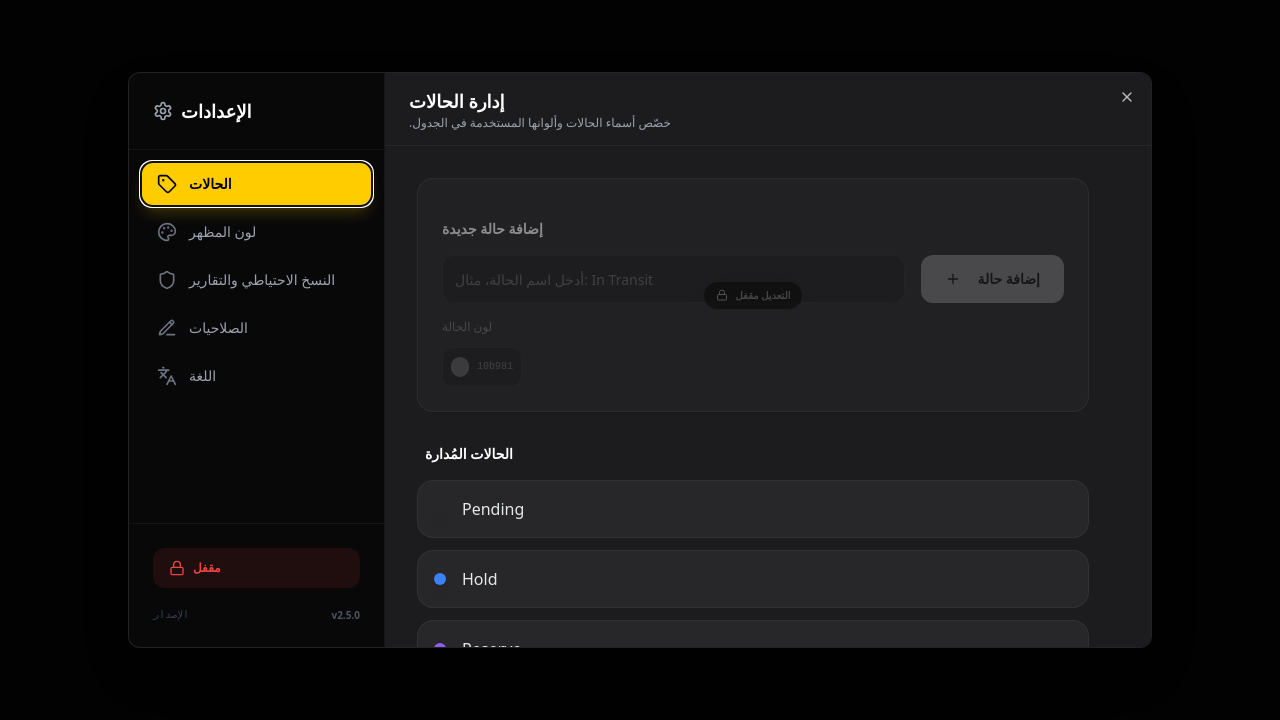
SettingsModal i18n (Wave 4) › translates the password prompt, including the incorrect-password state
Click the button "مقفل" at (256, 568), box [153, 548, 360, 588]
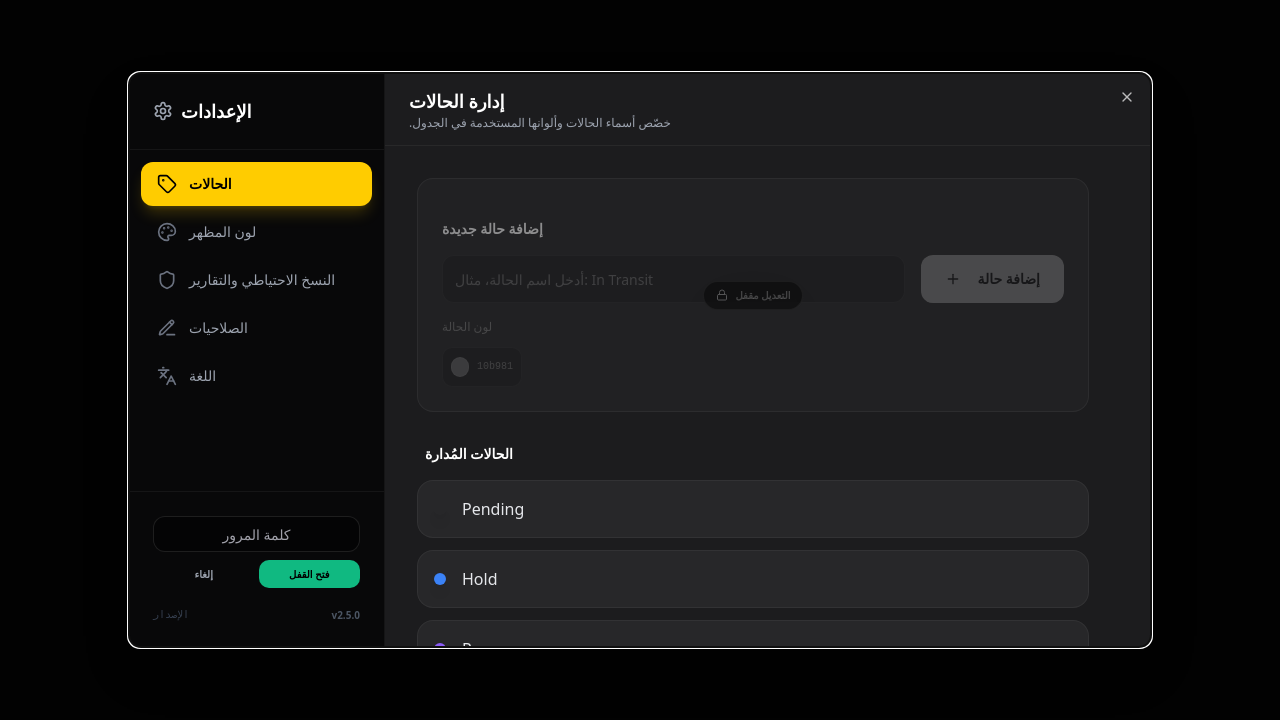
expect the button "إلغاء" is shown: met, box [153, 560, 254, 588]
expect the button "فتح القفل" is shown: met, box [258, 560, 360, 588]
Type "wrong-password" into the password field with placeholder "كلمة المرور" at (256, 534), box [153, 516, 360, 552]
Then press Enter
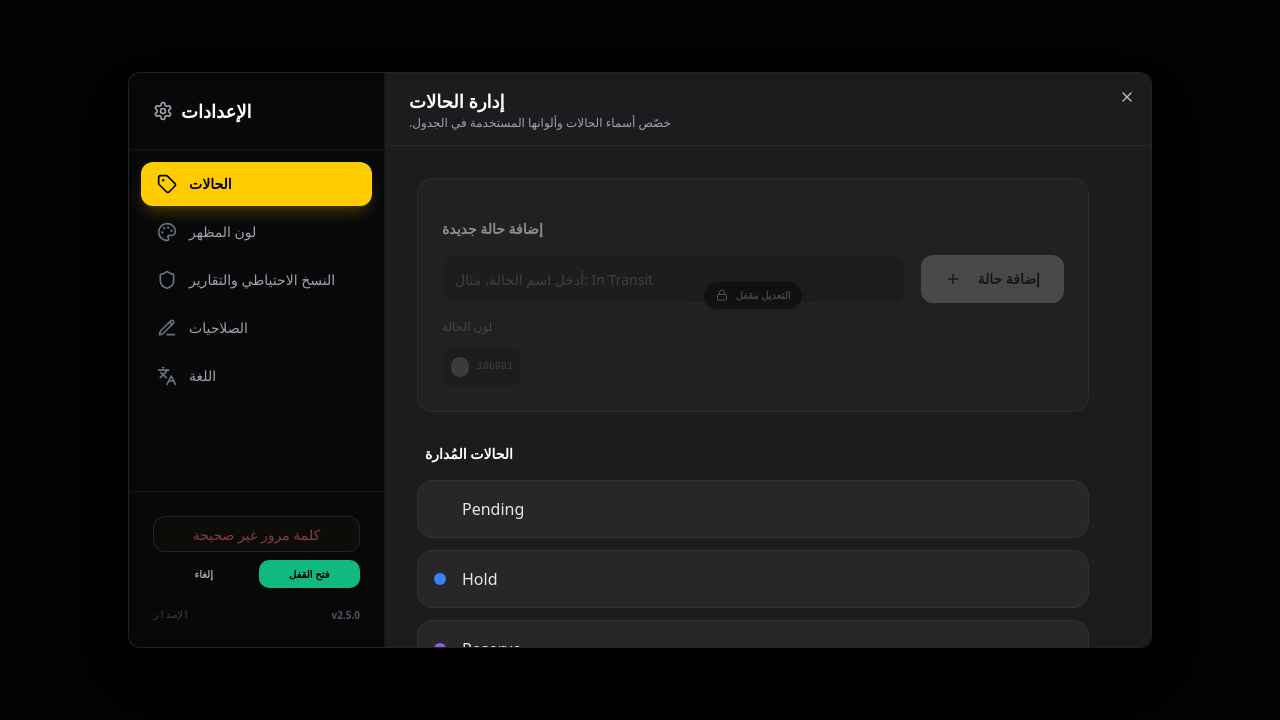
expect the password field with placeholder "كلمة مرور غير صحيحة" is shown: met, box [153, 516, 360, 552]
